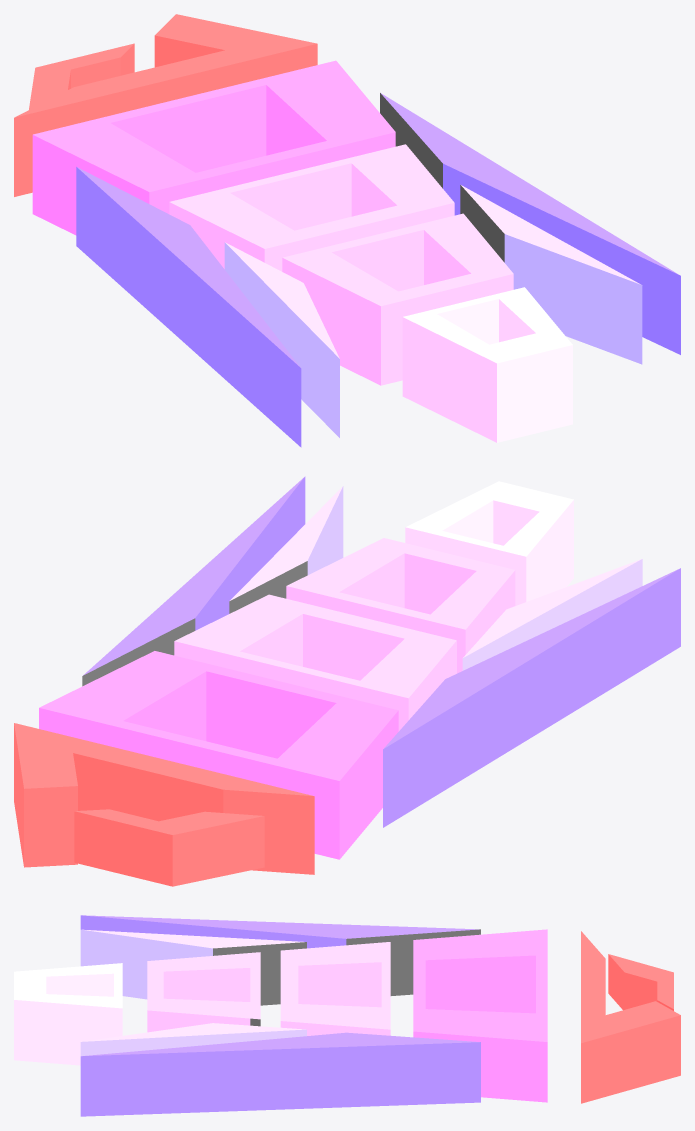
Rendered from tronglow_01.fbx.
The picture shows the model from 3 angles, top to bottom: view 1: azimuth 30°, elevation 25°; view 2: azimuth 150°, elevation 25°; view 3: azimuth 270°, elevation 25°; orthographic projection. The views are drawn at different scales.
Parts seen in each view (by area): view 1: polySurface190; view 2: polySurface190; view 3: polySurface190.
Part boxes in pixels (bbox=[...]): polySurface190: bbox=[14, 14, 680, 447]; polySurface190: bbox=[14, 476, 680, 886]; polySurface190: bbox=[14, 915, 680, 1116].
Bounding box in the file's own units: 5 × 1 × 10.
